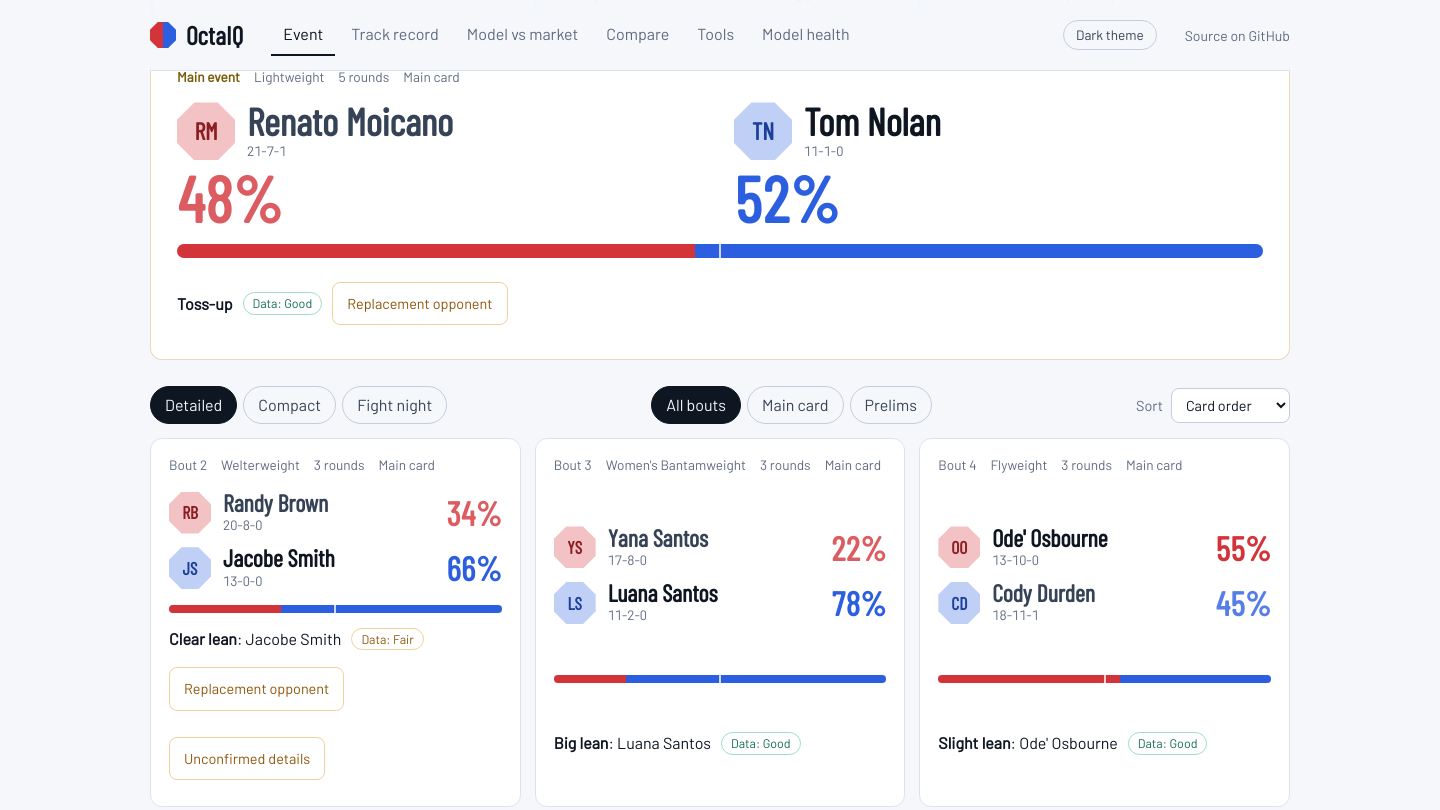
Test case: retention features › fight night view lists the card in running order with the start of each part
(page scrolled)
Click the button "Fight night": (395, 405) [342,386,447,424]
(page scrolled)
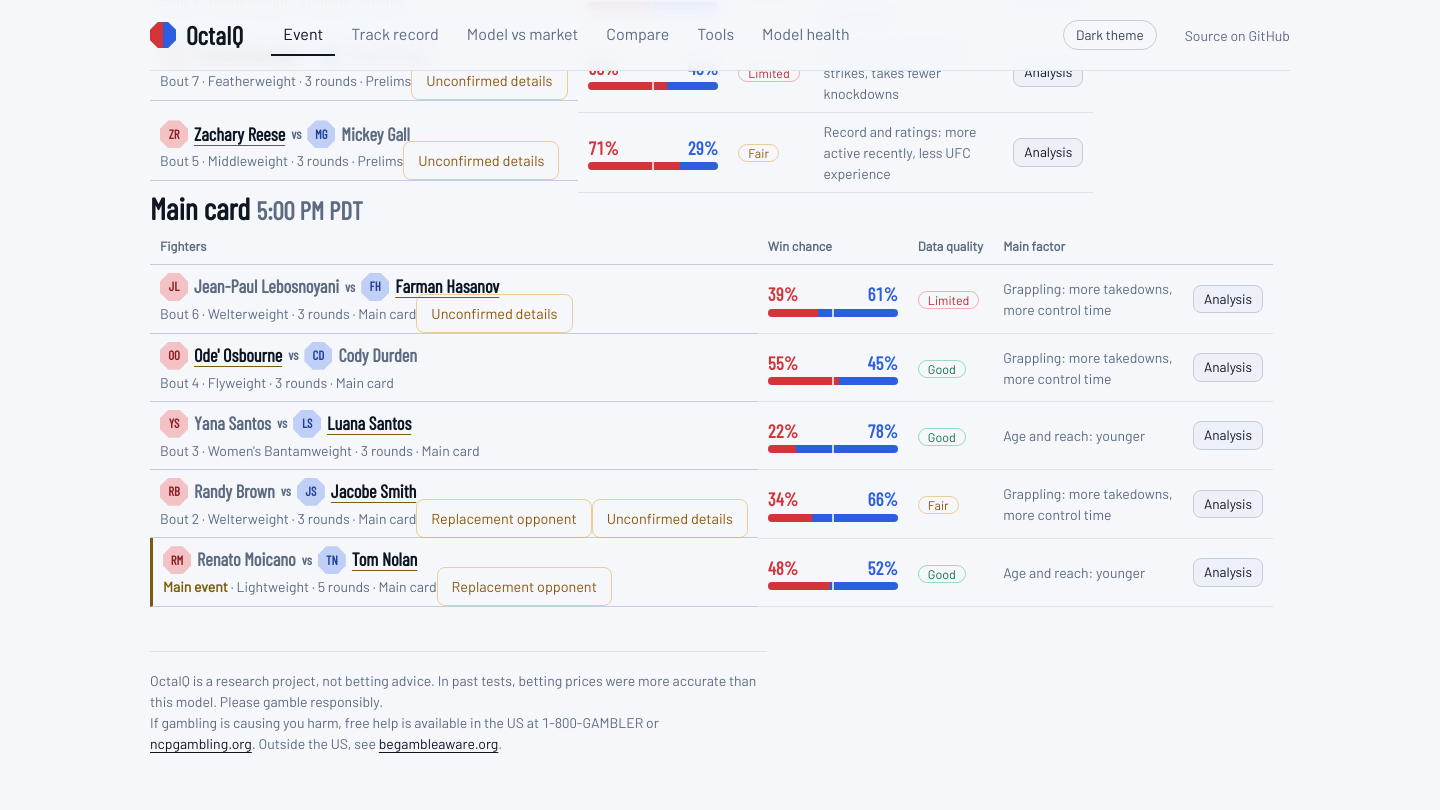
Now the heading "Main card" is shown, box [150,190,363,226]
Now the row that starts with "Renato Moicano" shows "Main event", box [163,578,228,595]
